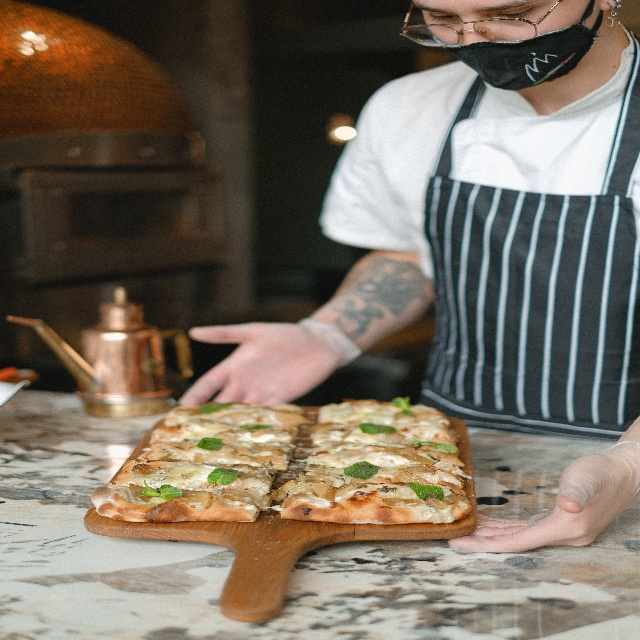Gafas: (398, 0, 563, 50)
Guantes: (448, 442, 640, 557), (178, 317, 363, 423)
Mascara: (431, 0, 602, 91)
Sin_guantes: (449, 454, 630, 554), (178, 322, 339, 410)
